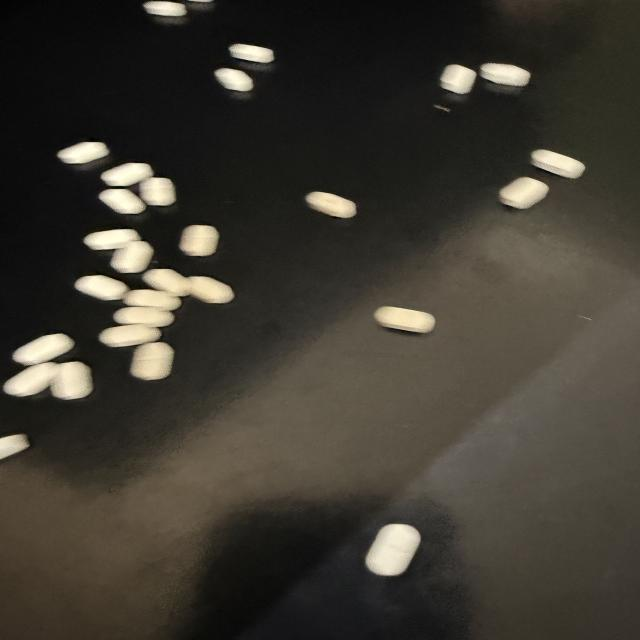pill: (366, 524, 420, 576), (13, 334, 74, 365), (4, 362, 58, 396), (130, 342, 173, 380), (374, 307, 435, 333), (499, 177, 548, 209), (51, 362, 93, 399), (531, 150, 585, 178), (99, 325, 161, 347), (75, 275, 129, 300), (111, 241, 153, 273), (305, 192, 356, 218), (142, 269, 190, 296), (179, 225, 219, 256), (101, 163, 153, 186), (84, 229, 140, 250), (99, 189, 146, 214), (189, 277, 234, 303), (123, 290, 181, 310), (114, 307, 174, 326), (480, 64, 530, 86), (57, 142, 109, 163), (139, 177, 176, 206), (440, 65, 476, 94), (214, 68, 253, 91), (229, 44, 274, 63), (0, 434, 30, 459), (143, 0, 186, 16)
